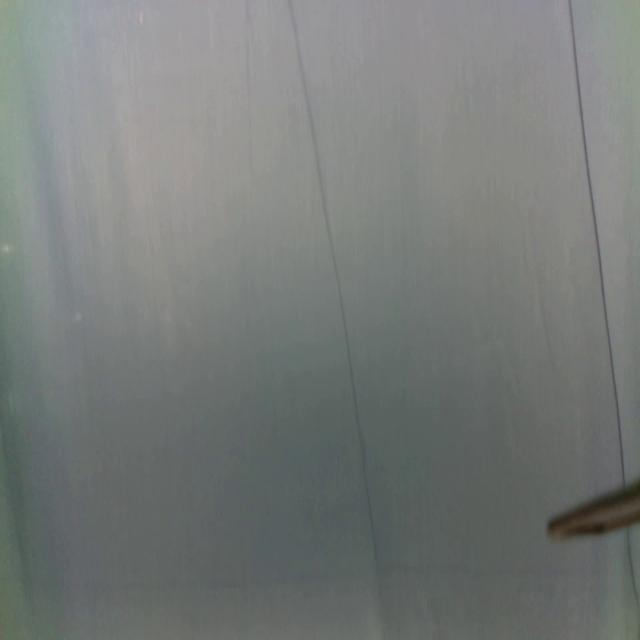crease: (289, 0, 382, 567), (566, 1, 626, 486), (625, 530, 640, 614)
